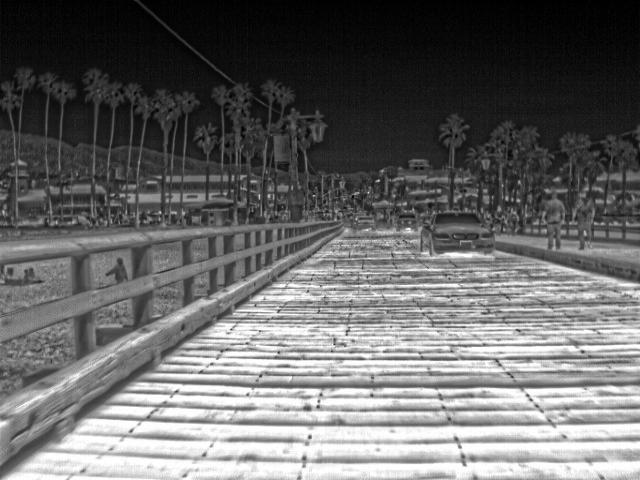car: (417, 209, 498, 253), (348, 212, 378, 230), (397, 212, 419, 229)
person: (570, 190, 598, 250), (544, 188, 568, 250), (106, 256, 131, 282)
